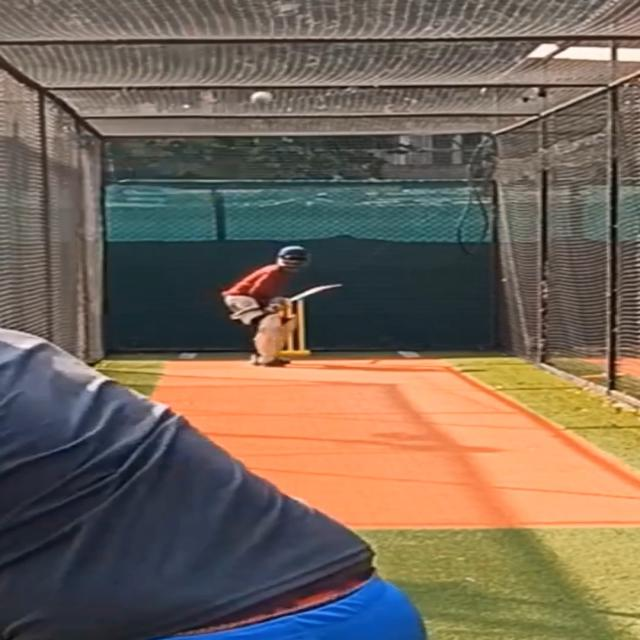ball: (247, 89, 276, 109)
stump: (272, 296, 312, 354)
